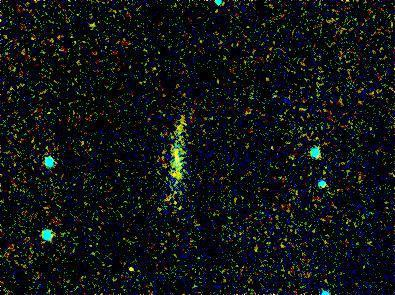star: (116, 252, 146, 282)
